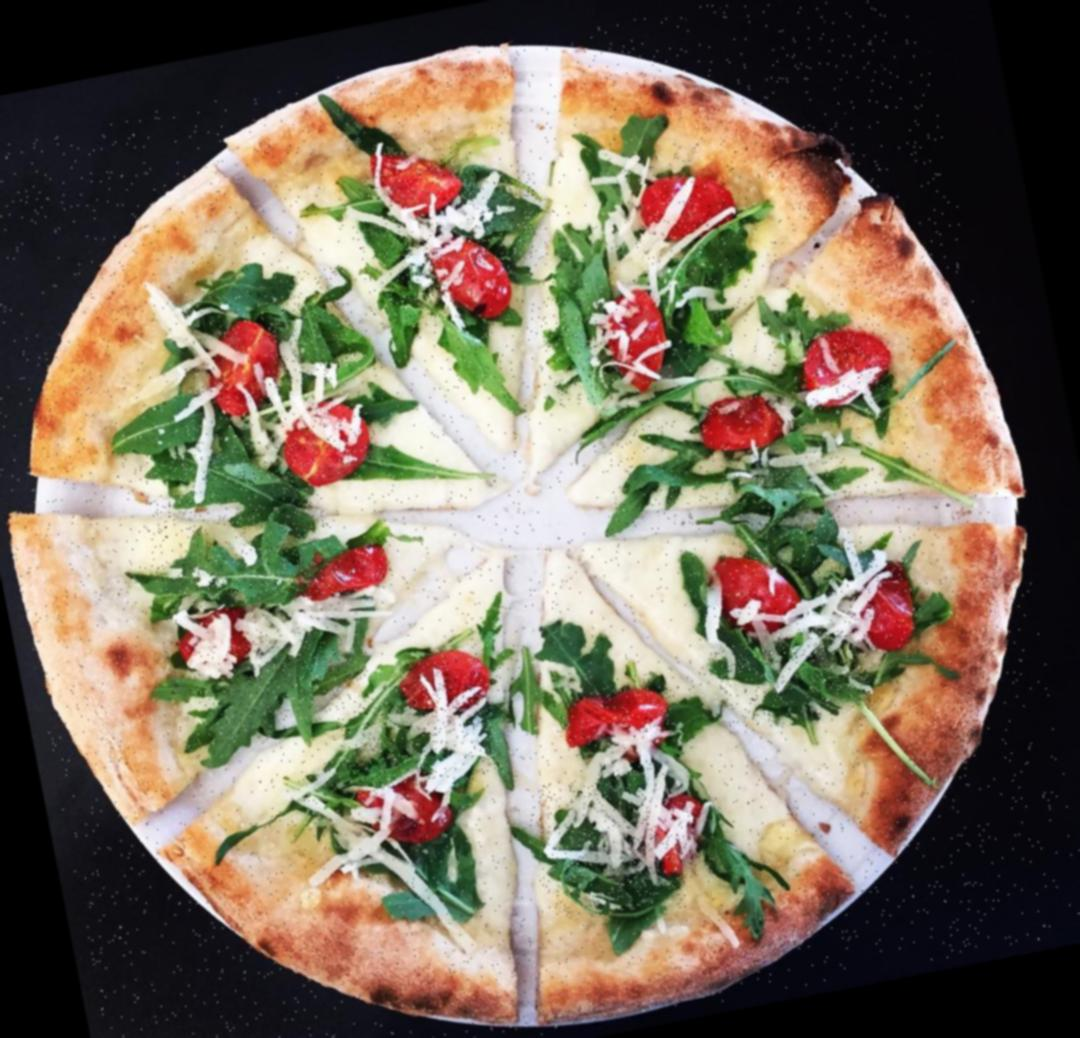Basil: (132, 430, 340, 620), (601, 391, 848, 539), (522, 762, 689, 926), (720, 458, 872, 612), (187, 620, 375, 744), (330, 669, 504, 799), (531, 137, 652, 310), (714, 620, 874, 736), (654, 224, 766, 362), (417, 308, 538, 431), (255, 264, 365, 386), (356, 218, 452, 335), (454, 162, 552, 272), (529, 289, 615, 410)
Pizza: (0, 0, 1080, 1038)
Tomatoes: (552, 672, 676, 756), (634, 168, 742, 262), (190, 322, 284, 429), (382, 639, 504, 718), (276, 398, 382, 486), (794, 314, 893, 408), (593, 278, 669, 382), (362, 142, 468, 216), (843, 559, 922, 658), (362, 773, 458, 852), (432, 236, 510, 321), (706, 556, 798, 628), (295, 538, 394, 599), (698, 394, 790, 452), (164, 612, 246, 669), (638, 797, 702, 868)
